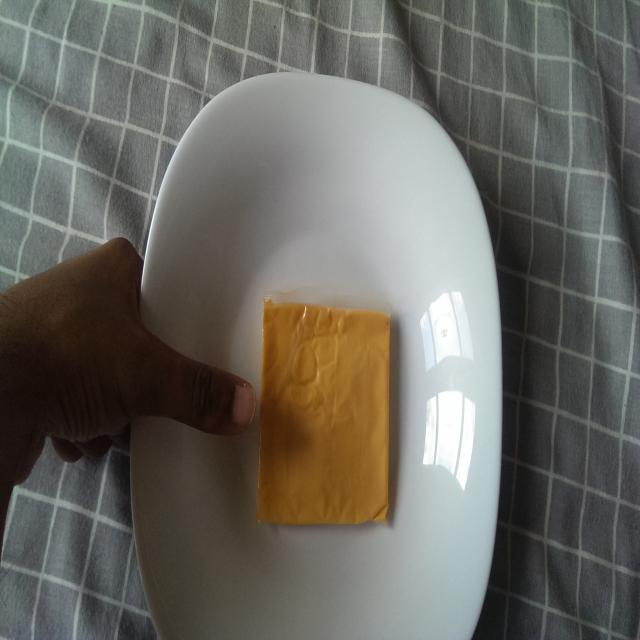Cheese: (257, 288, 394, 532)
Finger: (186, 348, 259, 444)
